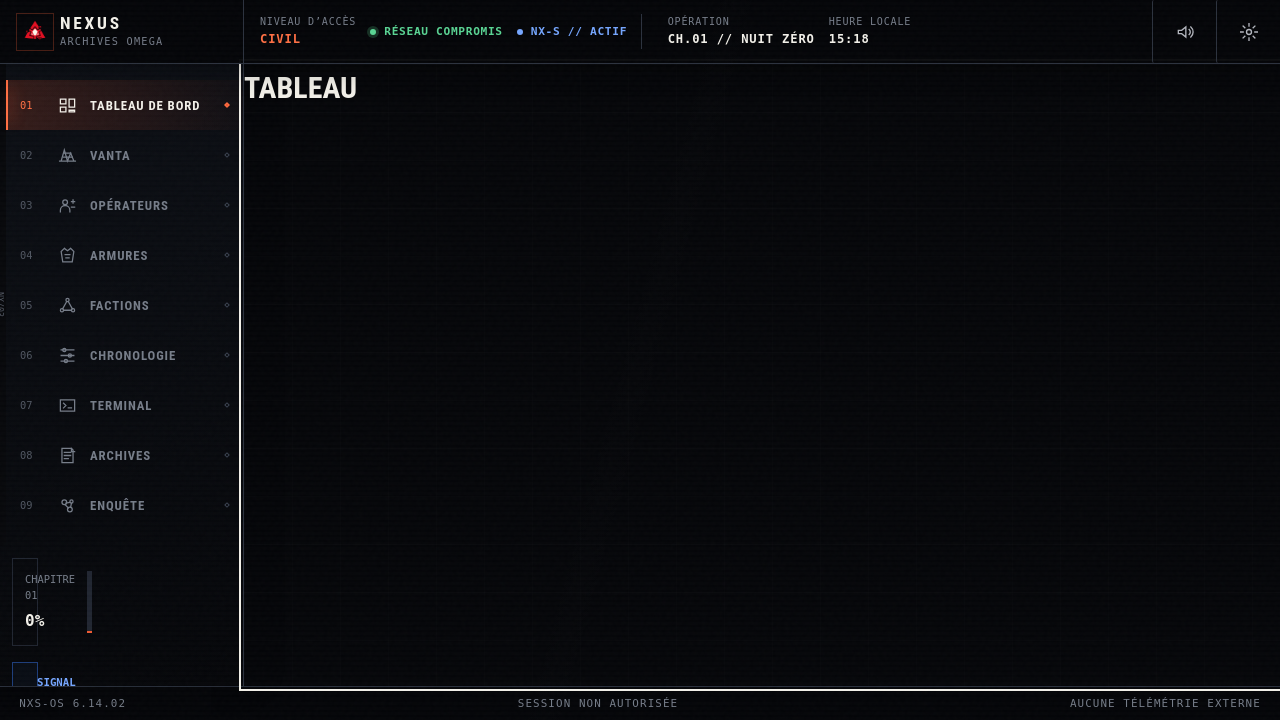
Test: navigation principale › navigue vers VANTA et ferme le menu
The width and height of the screenshot is (1280, 720).
Click the link "02 VANTA".
click(125, 155)  # box [20,146,230,164]
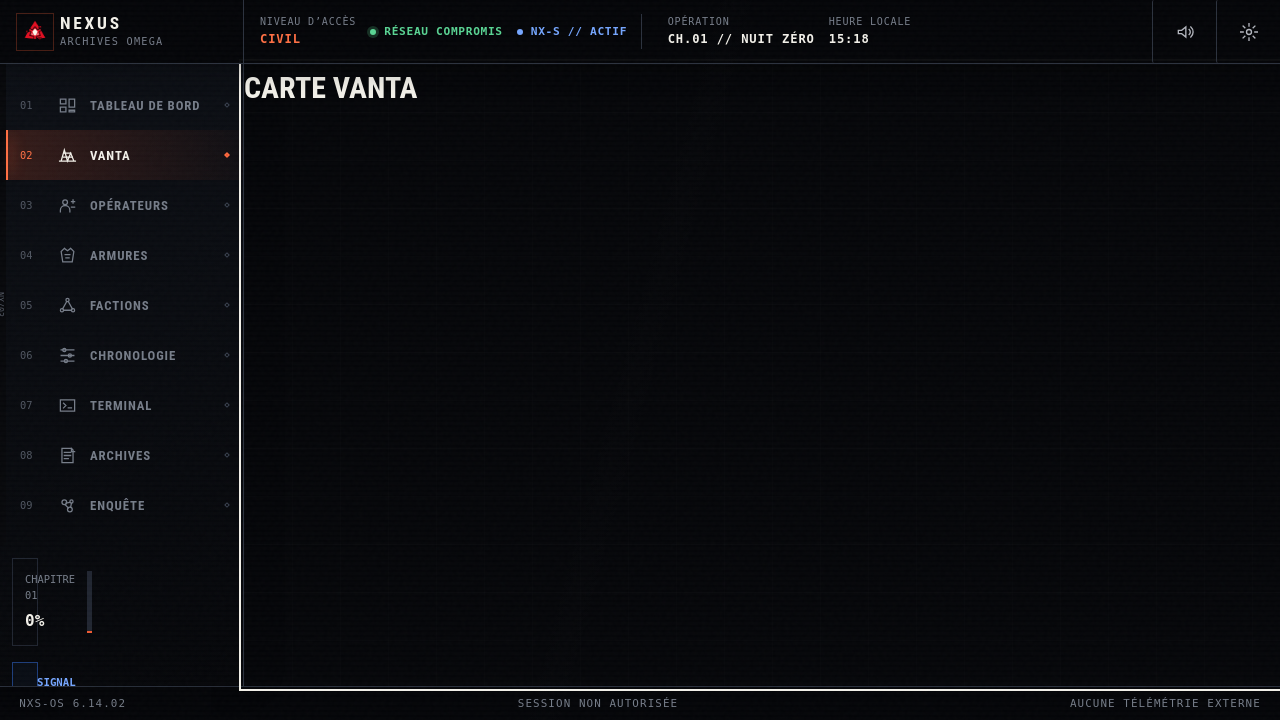
Now the heading "CARTE VANTA" is shown, box [244,70,418,105]
